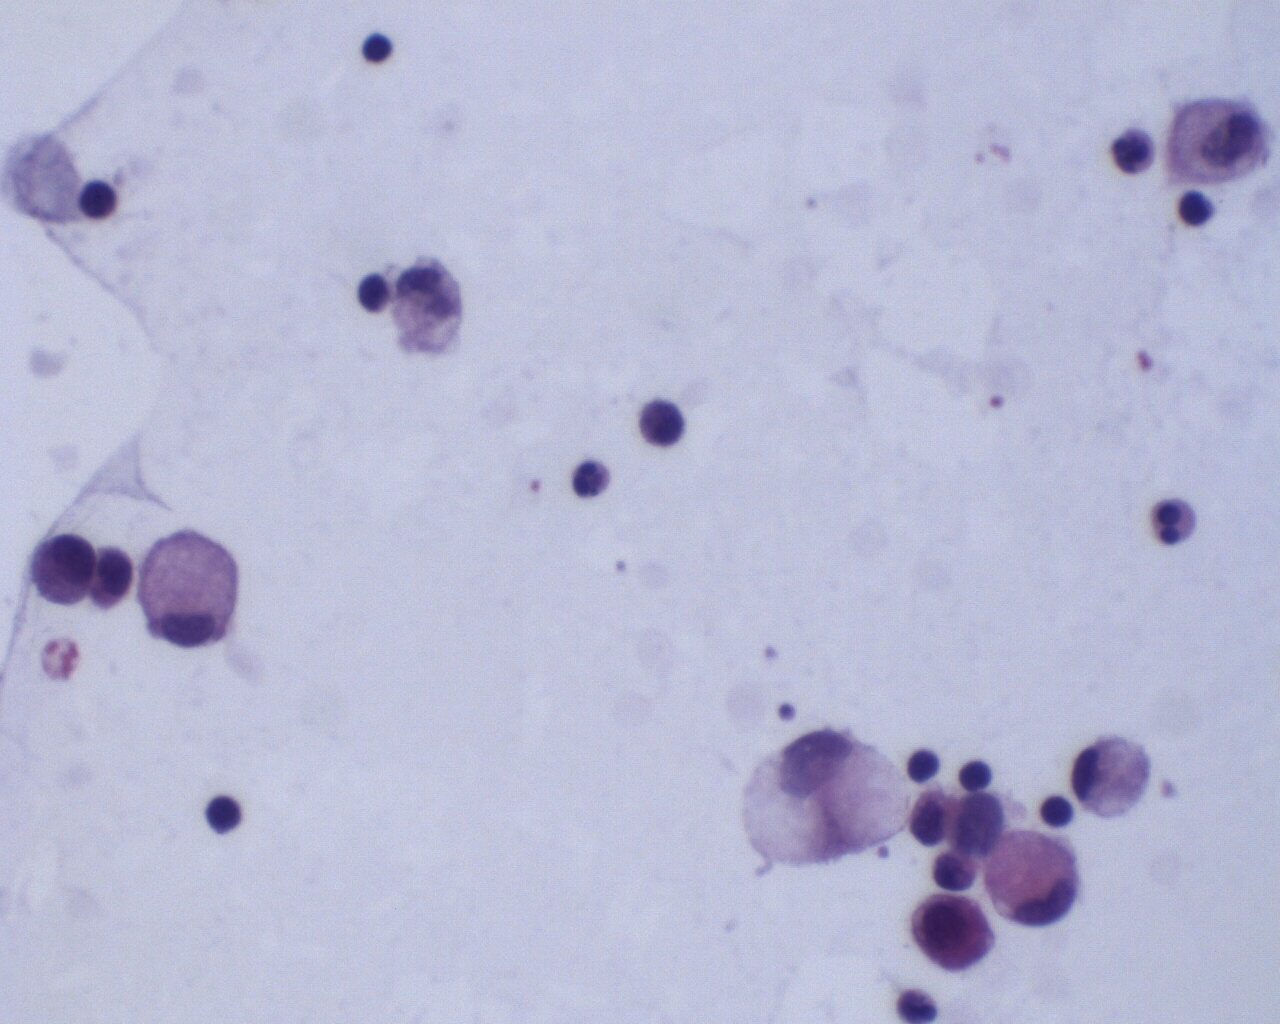histo: (745, 719, 914, 867), (135, 528, 241, 651), (988, 825, 1081, 931), (1070, 728, 1154, 818)
lymph: (204, 791, 248, 841), (75, 178, 120, 225), (1170, 186, 1219, 227), (957, 753, 999, 795), (358, 28, 396, 69)
meso: (27, 529, 100, 615)
neutro: (1110, 121, 1158, 180), (1151, 494, 1200, 549), (566, 457, 613, 501)
